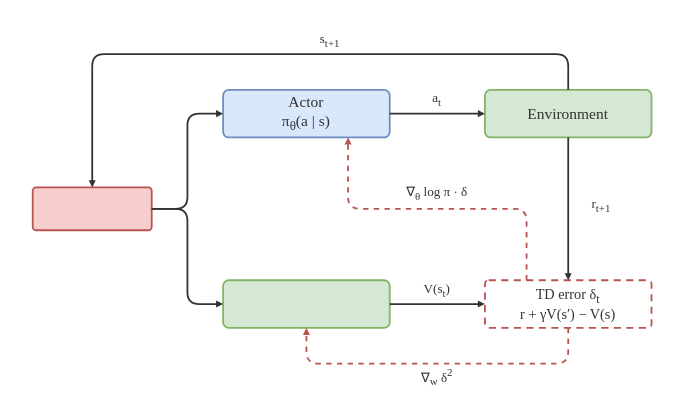
Some shapes in this 683 by 419 pixel diagram are drawn without their labels. The shapes that lost their labels are listed below. From the top down, each one's box as (x1, y1, x2, y2) in pixels, then its label:
(31, 186, 152, 231): State s t
(222, 279, 390, 328): Critic V w (s)
